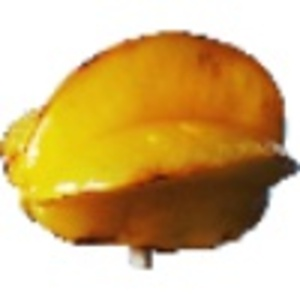carambola: (1, 29, 300, 271)
